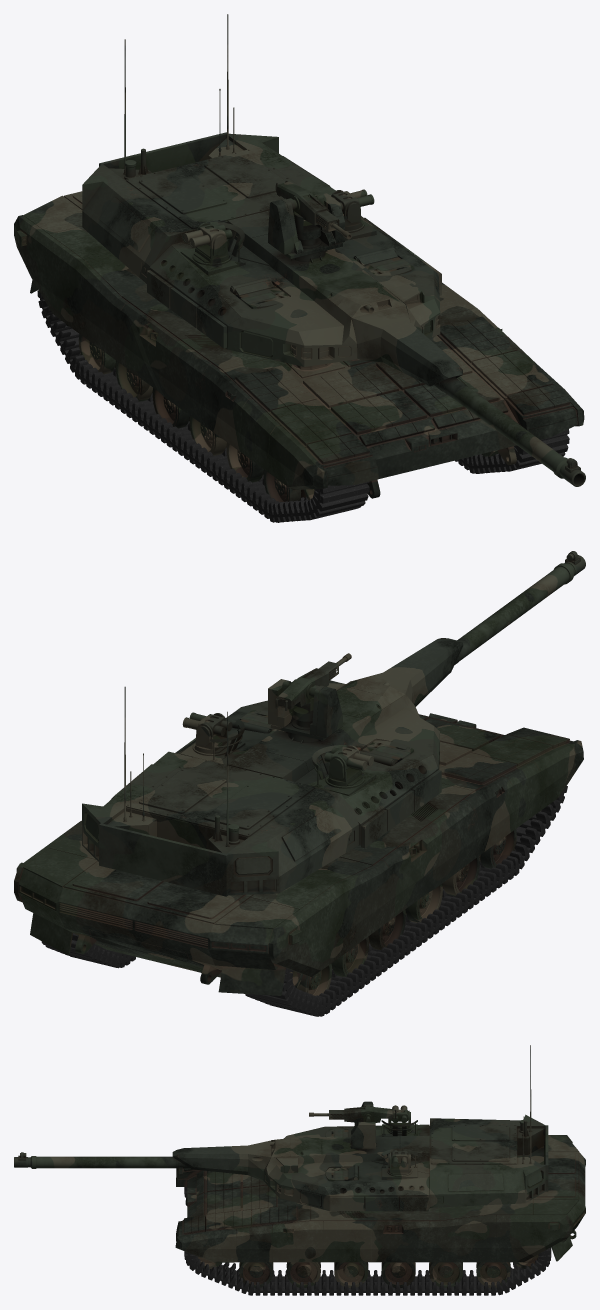
Rendered from korea_k3_main_battle_tank.glb.
The picture shows the model from 3 angles, top to bottom: view 1: azimuth 30°, elevation 25°; view 2: azimuth 150°, elevation 25°; view 3: azimuth 270°, elevation 25°; orthographic projection. The views are drawn at different scales.
Visible parts, largest first — view 1: K3_TurretHull, K3_MainHull, K3_TurretHull_Track; view 2: K3_TurretHull, K3_MainHull, K3_TurretHull_Track; view 3: K3_TurretHull, K3_MainHull, K3_TurretHull_Track.
Part boxes in pixels (<box>): K3_TurretHull: <box>82,14,585,486</box>; K3_MainHull: <box>14,154,584,498</box>; K3_TurretHull_Track: <box>37,290,569,522</box>; K3_TurretHull: <box>82,551,585,896</box>; K3_MainHull: <box>14,680,583,995</box>; K3_TurretHull_Track: <box>41,786,567,1016</box>; K3_TurretHull: <box>14,1045,548,1211</box>; K3_MainHull: <box>175,1135,585,1262</box>; K3_TurretHull_Track: <box>184,1187,551,1295</box>.
Bounding box in the file's own units: 3.92 × 4.08 × 10.78.
Materials: 4 (4 with a texture image).
